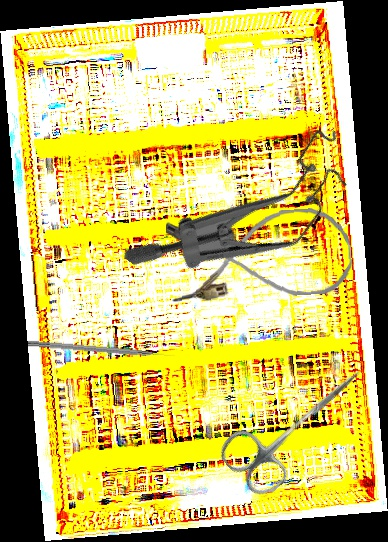Cannula: (165, 205, 354, 305)
Hook Surgical: (27, 339, 176, 361)
Iris Scissors: (214, 343, 381, 503)
Speculum: (119, 73, 372, 341)
